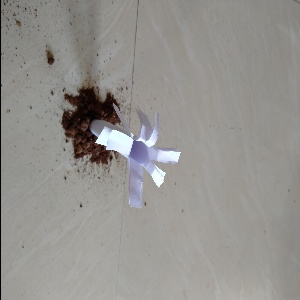weed: (79, 91, 183, 203)
